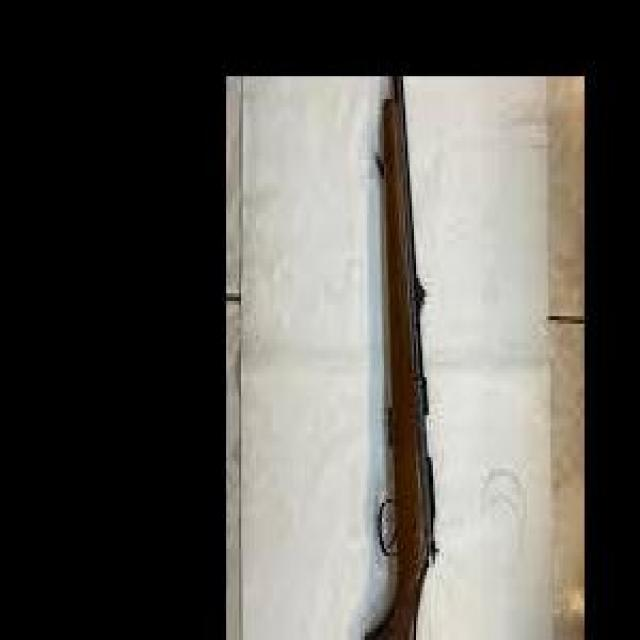weapon: (364, 77, 440, 640)
